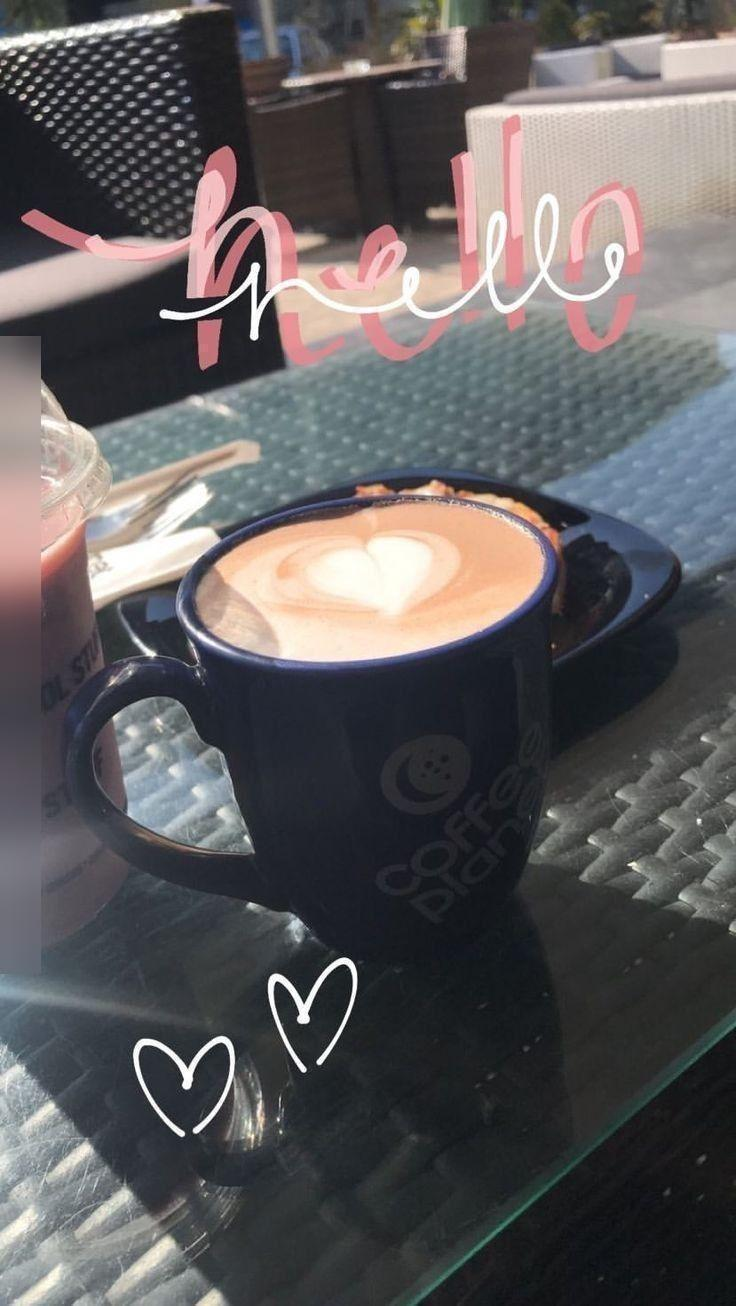cup-handle: (61, 489, 563, 958)
